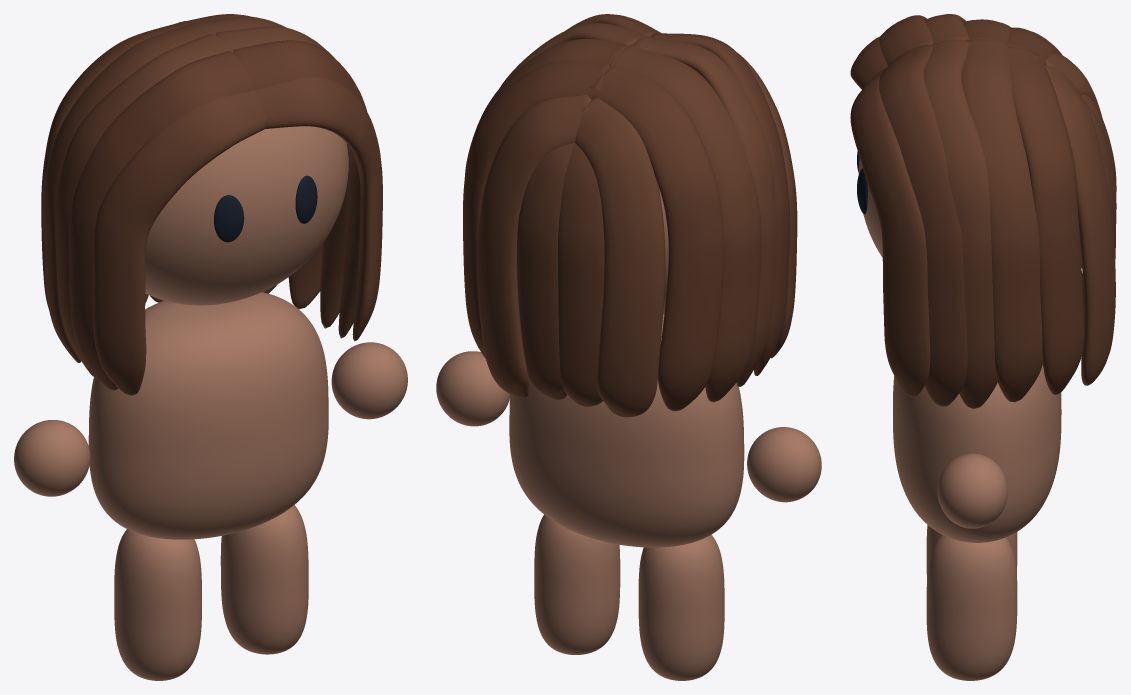
Rendered from Feminine-skin2.glb.
3 views of the same model, side by side, from view 1: azimuth 30°, elevation 25°; view 2: azimuth 150°, elevation 25°; view 3: azimuth 270°, elevation 25° (orthographic). The views are drawn at different scales.
Parts seen in each view (by area): view 1: Skin / compact torso with skirt outline, Skin / soft oval head, Hair / Straight -1 0, Hair / Straight -1 1, Skin / leg -1, Skin / leg 1, Hair / Straight 1 0, Hair / Straight -1 2, Hair / Straight 1 1, Hair / Straight -1 3, Skin / hand 1, Skin / hand -1 (+5 smaller); view 2: Skin / compact torso with skirt outline, Hair / Straight -1 4, Hair / Straight -1 5, Hair / Straight -1 3, Hair / Straight 1 5, Skin / leg -1, Hair / Straight -1 6, Skin / leg 1, Hair / Straight 1 6, Hair / Straight 1 4, Hair / Straight -1 2, Hair / Straight -1 1 (+6 smaller); view 3: Skin / compact torso with skirt outline, Hair / Straight 1 3, Hair / Straight 1 4, Hair / Straight 1 1, Hair / Straight 1 0, Hair / Straight 1 2, Skin / leg 1, Hair / Straight 1 5, Skin / hand 1, Hair / Straight -1 1, Hair / Straight -1 0, Hair / Straight 1 6 (+7 smaller).
Boxes of the visible parts, x1,y1,x2,y2 form: Skin / compact torso with skirt outline: (88,292,328,539); Skin / soft oval head: (145,126,348,305); Hair / Straight -1 0: (93,90,266,395); Hair / Straight -1 1: (69,51,254,390); Skin / leg -1: (114,529,201,680); Skin / leg 1: (220,505,308,654); Hair / Straight 1 0: (254,77,382,341); Hair / Straight -1 2: (55,34,231,378); Hair / Straight 1 1: (233,40,366,338); Hair / Straight -1 3: (43,22,214,362); Skin / hand 1: (331,342,407,419); Skin / hand -1: (14,420,90,496); Skin / compact torso with skirt outline: (509,314,744,547); Hair / Straight -1 4: (591,65,723,411); Hair / Straight -1 5: (575,97,665,417); Hair / Straight -1 3: (609,44,761,402); Hair / Straight 1 5: (477,95,591,397); Skin / leg -1: (638,534,724,680); Hair / Straight -1 6: (557,143,604,406); Skin / leg 1: (534,514,620,654); Hair / Straight 1 6: (517,143,574,399); Hair / Straight 1 4: (463,61,609,358); Hair / Straight -1 2: (633,36,777,386); Hair / Straight -1 1: (650,33,790,375); Skin / compact torso with skirt outline: (893,364,1061,542); Hair / Straight 1 3: (962,38,1042,402); Hair / Straight 1 4: (1007,46,1084,394); Hair / Straight 1 1: (879,44,967,406); Hair / Straight 1 0: (850,67,930,396); Hair / Straight 1 2: (925,39,997,409); Skin / leg 1: (926,534,1017,680); Hair / Straight 1 5: (1045,65,1115,385); Skin / hand 1: (937,453,1007,528); Hair / Straight -1 1: (879,15,933,65); Hair / Straight -1 0: (850,37,888,89); Hair / Straight 1 6: (1083,100,1116,259).
Size of the model in its own units: 1.49 by 2.33 by 0.9212.
